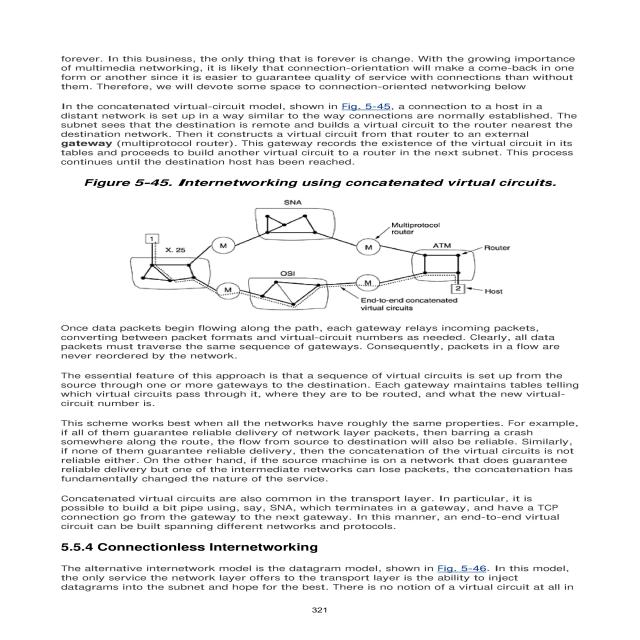diagram: (35, 171, 588, 317)
